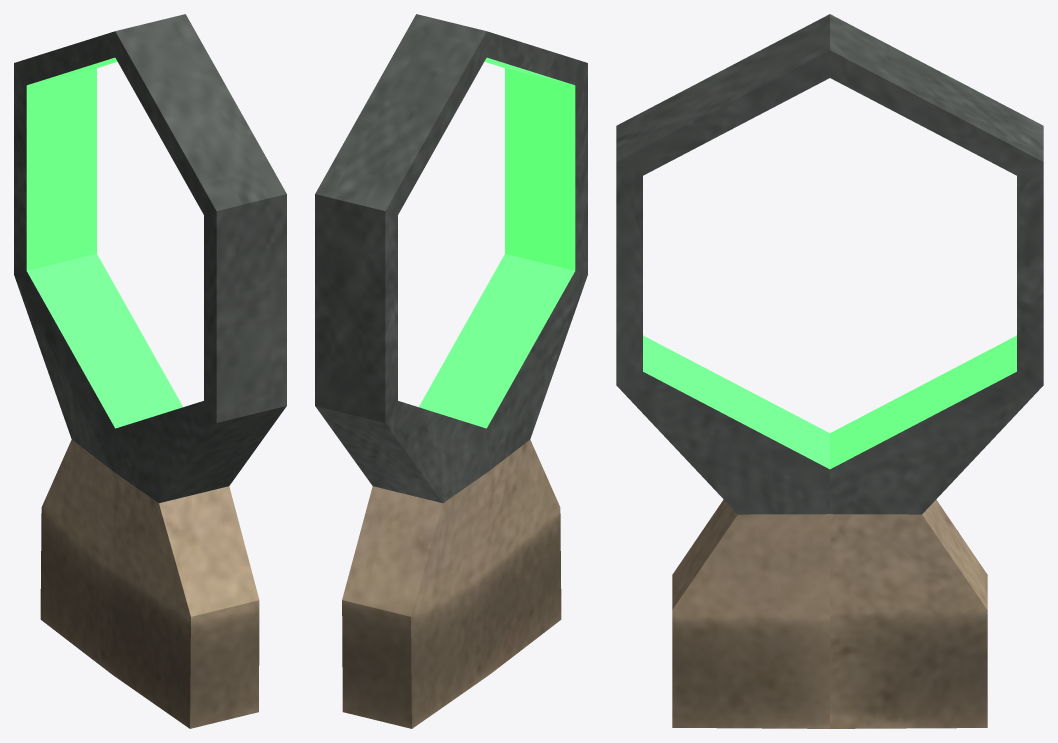
File: suportetrilhos.fbx
3 views of the same model, side by side, from view 1: azimuth 30°, elevation 25°; view 2: azimuth 150°, elevation 25°; view 3: azimuth 270°, elevation 25° (orthographic). The views are drawn at different scales.
Visible parts, largest first — view 1: Cube; view 2: Cube; view 3: Cube.
Part boxes in pixels (x1,y1,x2,y2): Cube: (14, 14, 286, 728); Cube: (315, 14, 587, 728); Cube: (616, 14, 1043, 728).
Size of the model in its own units: 89.37 by 737 by 420.
